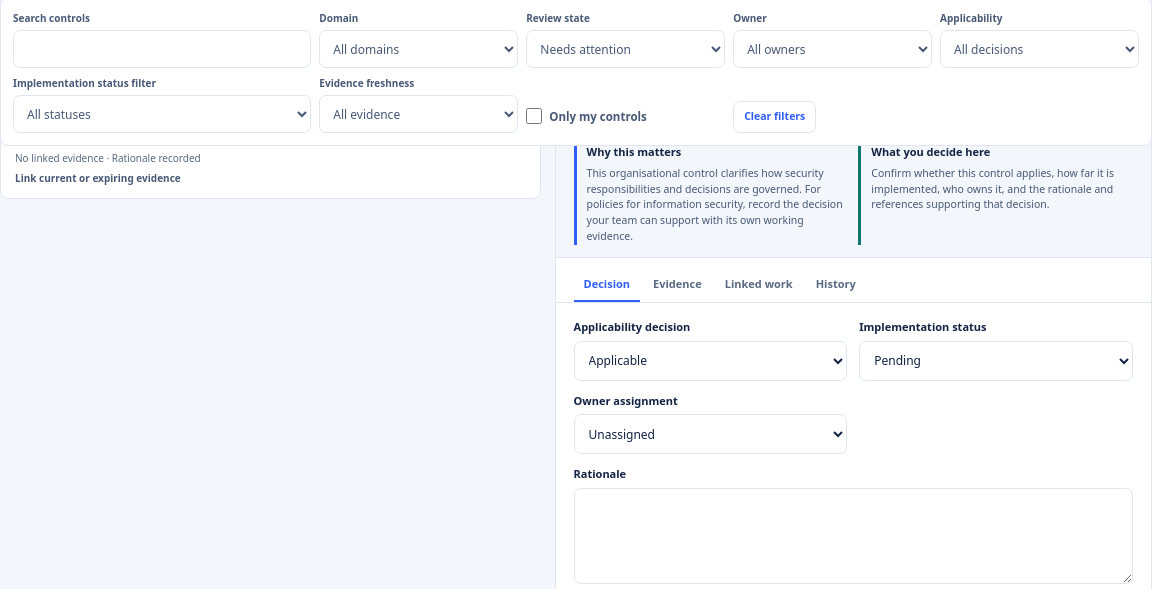
Test: SoaReviewWorkspace › provides labelled controls, a live save region, and honest tab content
(page scrolled)
Expected: the search field labelled "Search controls" is shown, [13, 30, 311, 68]
Expected: the dropdown labelled "Domain" is shown, [319, 30, 518, 68]
Click the tab "Evidence".
click(677, 285)  # box [643, 268, 712, 302]
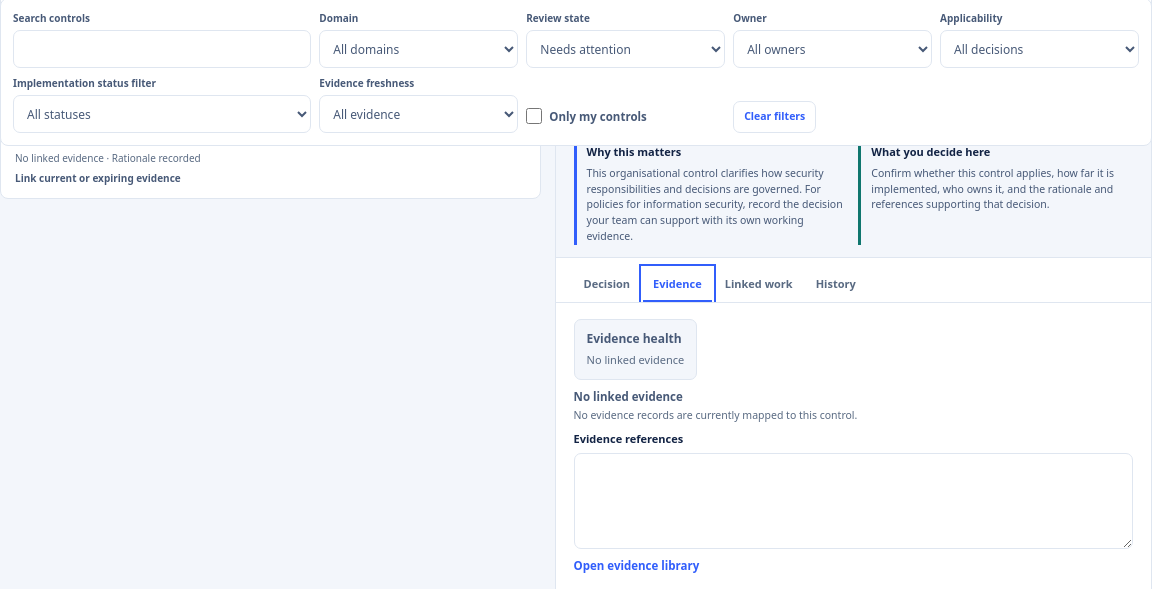
Expected: the text box labelled "Evidence references" is shown, [574, 452, 1133, 548]
Expected: the text "No evidence records are currently mapped to this control." is shown, [574, 408, 857, 423]
Click the tab "Linked work".
click(759, 285)  # box [715, 268, 803, 302]
(page scrolled)
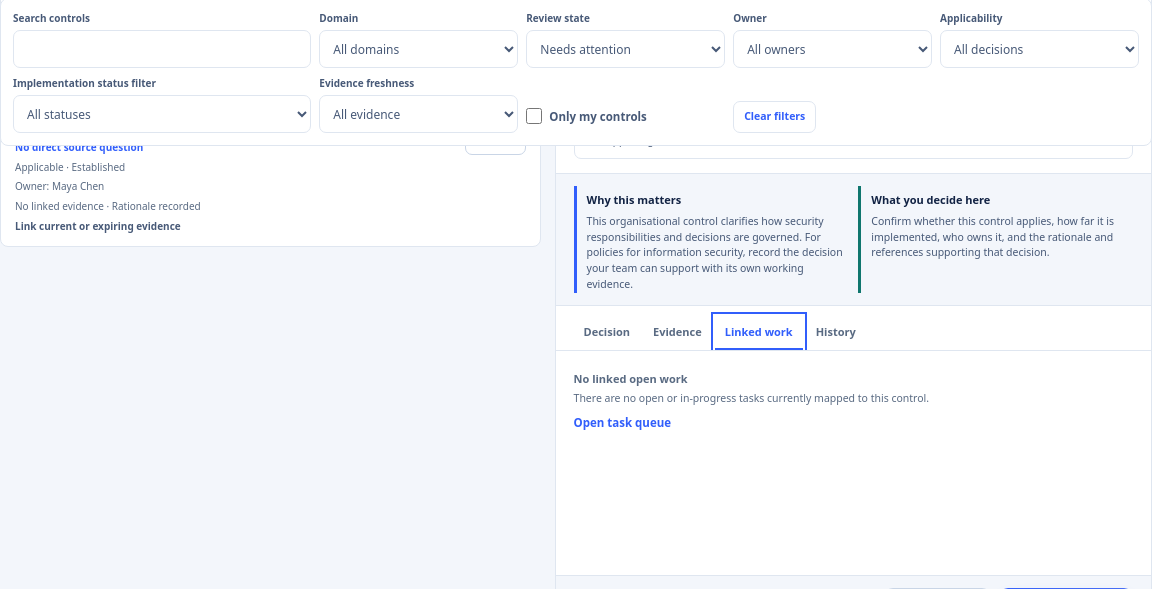
Expected: the text "No linked open work" is shown, [574, 371, 688, 386]
Click the tab "History".
click(836, 333)  # box [806, 316, 866, 350]
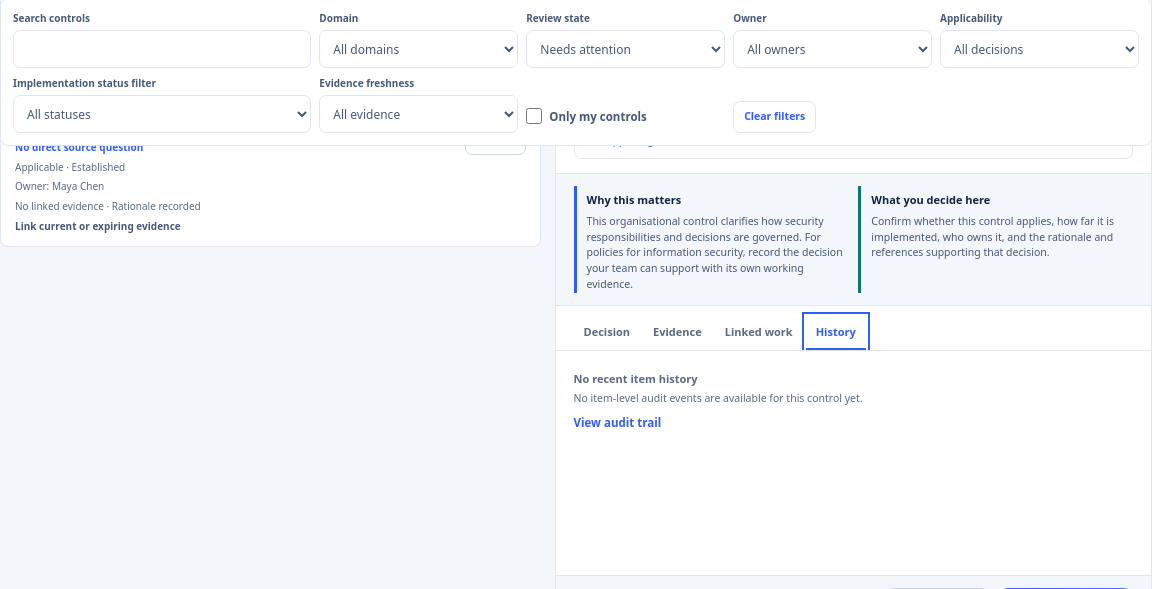
Expected: the text "No recent item history" is shown, [574, 371, 698, 386]
